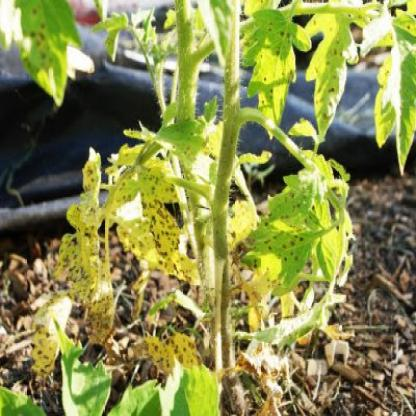Tomato Septoria leaf spot: (238, 174, 350, 296), (57, 160, 122, 364), (113, 172, 201, 295), (308, 6, 367, 138), (243, 10, 308, 117)
